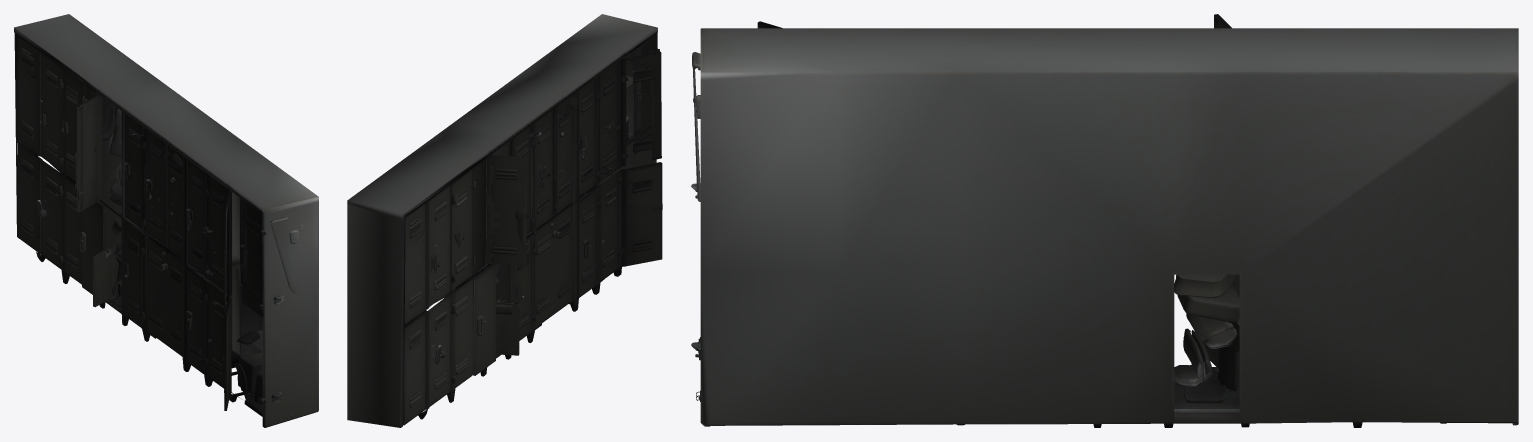
Rendered from Locker 2.glb.
The picture shows the model from 3 angles, left to right: view 1: azimuth 30°, elevation 25°; view 2: azimuth 150°, elevation 25°; view 3: azimuth 270°, elevation 25°; orthographic projection. The views are drawn at different scales.
Visible parts, largest first — view 1: b1da9f7f_d375_4fa7_83ea_2ed71732f25e; view 2: b1da9f7f_d375_4fa7_83ea_2ed71732f25e; view 3: b1da9f7f_d375_4fa7_83ea_2ed71732f25e.
Boxes of the visible parts, left/top/right/bottom form: b1da9f7f_d375_4fa7_83ea_2ed71732f25e: left=14, top=14, right=318, bottom=427; b1da9f7f_d375_4fa7_83ea_2ed71732f25e: left=347, top=14, right=662, bottom=427; b1da9f7f_d375_4fa7_83ea_2ed71732f25e: left=691, top=14, right=1518, bottom=427.
Size of the model in its own units: 0.1938 by 0.4819 by 0.9995.
1 material, 1 textured.
